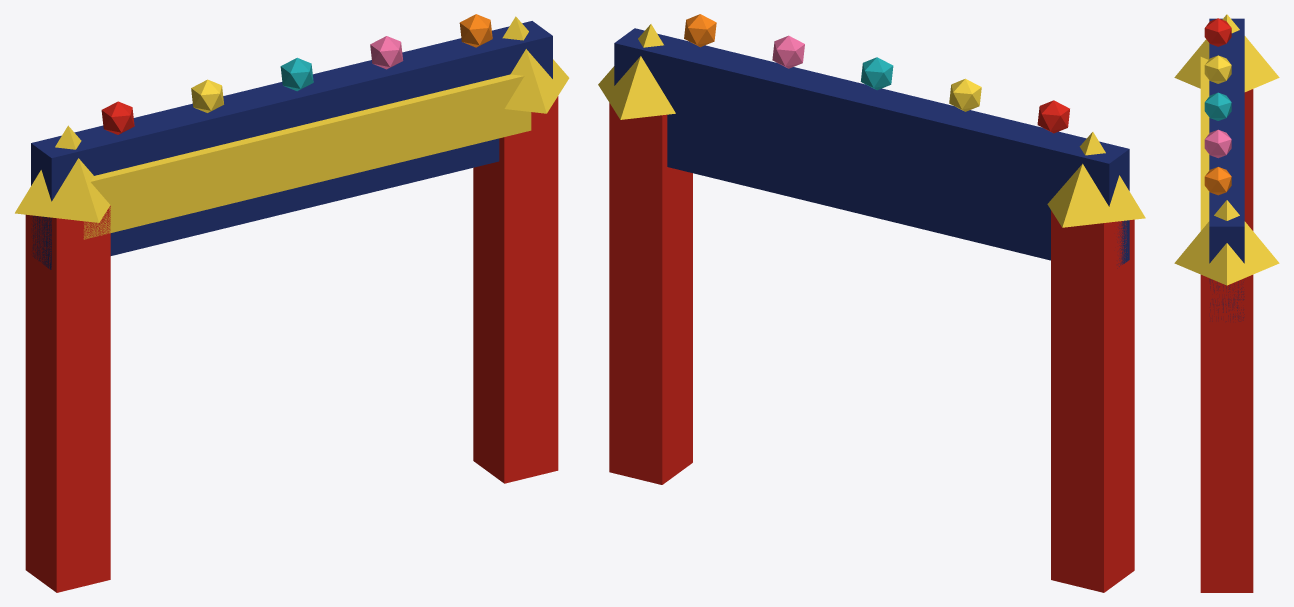
Rendered from entrance_arch.glb.
3 views of the same model, side by side, from view 1: azimuth 30°, elevation 25°; view 2: azimuth 150°, elevation 25°; view 3: azimuth 270°, elevation 25° (orthographic). The views are drawn at different scales.
Visible parts, largest first — view 1: entrance_arch; view 2: entrance_arch; view 3: entrance_arch.
Boxes of the visible parts, x1=… form: entrance_arch: x1=15, y1=14, x2=569, y2=592; entrance_arch: x1=598, y1=14, x2=1145, y2=592; entrance_arch: x1=1174, y1=14, x2=1279, y2=592.
Bounding box in the file's own units: 6.2 × 4.98 × 1.2.
